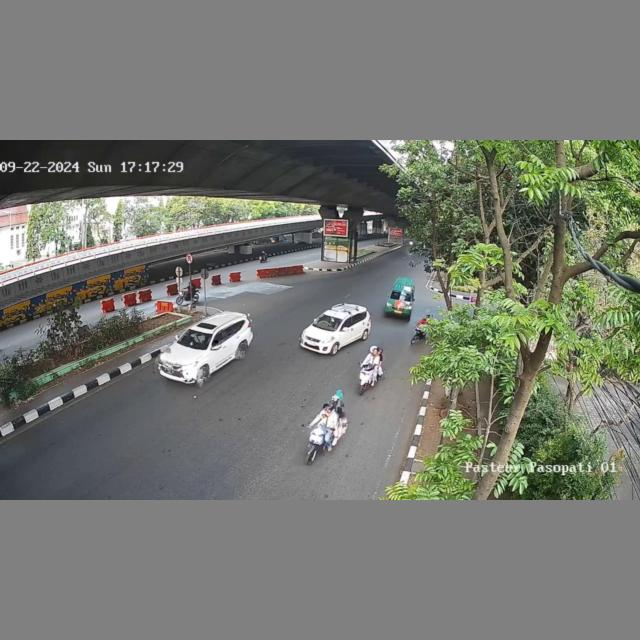windshield: (178, 329, 214, 348), (313, 313, 340, 331), (391, 292, 411, 299)
